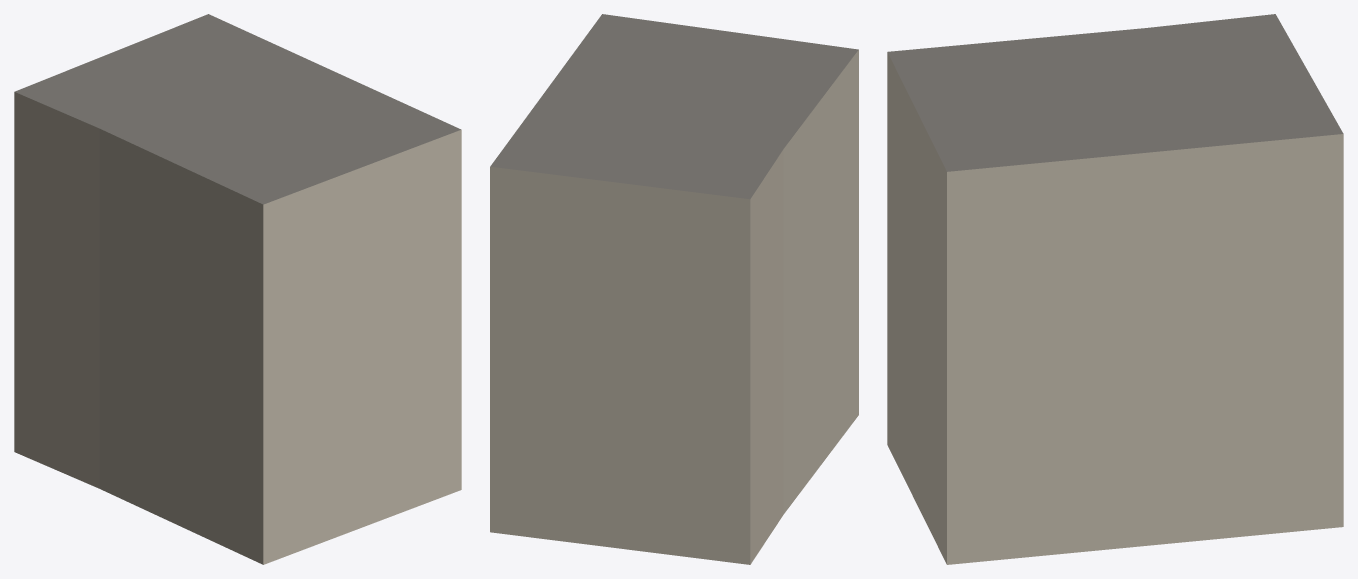
The picture shows the model from 3 angles, left to right: view 1: azimuth 30°, elevation 25°; view 2: azimuth 150°, elevation 25°; view 3: azimuth 270°, elevation 25°; orthographic projection. The views are drawn at different scales.
Visible parts, largest first — view 1: HP-w303313600; view 2: HP-w303313600; view 3: HP-w303313600.
Boxes of the visible parts, <box> form: HP-w303313600: <box>14,14,461,564</box>; HP-w303313600: <box>490,14,858,564</box>; HP-w303313600: <box>887,14,1343,564</box>.
Bounding box in the file's own units: 12.92 × 15 × 15.78.
